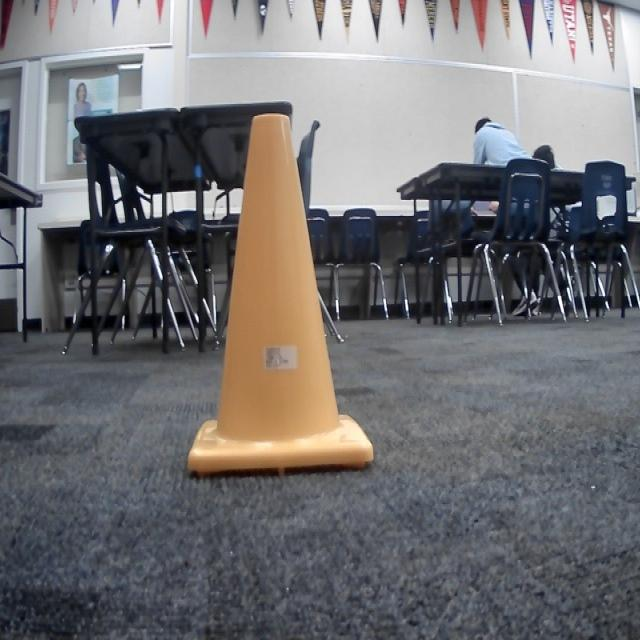cone: (187, 111, 375, 474)
